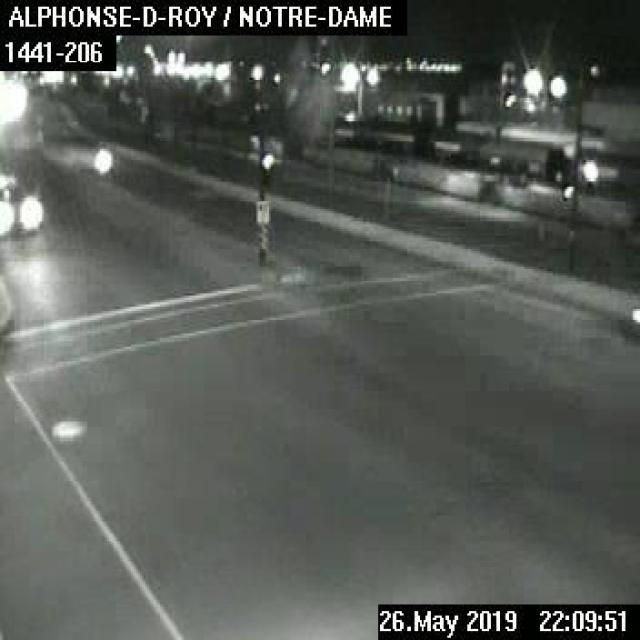vehicle: (0, 164, 44, 240)
